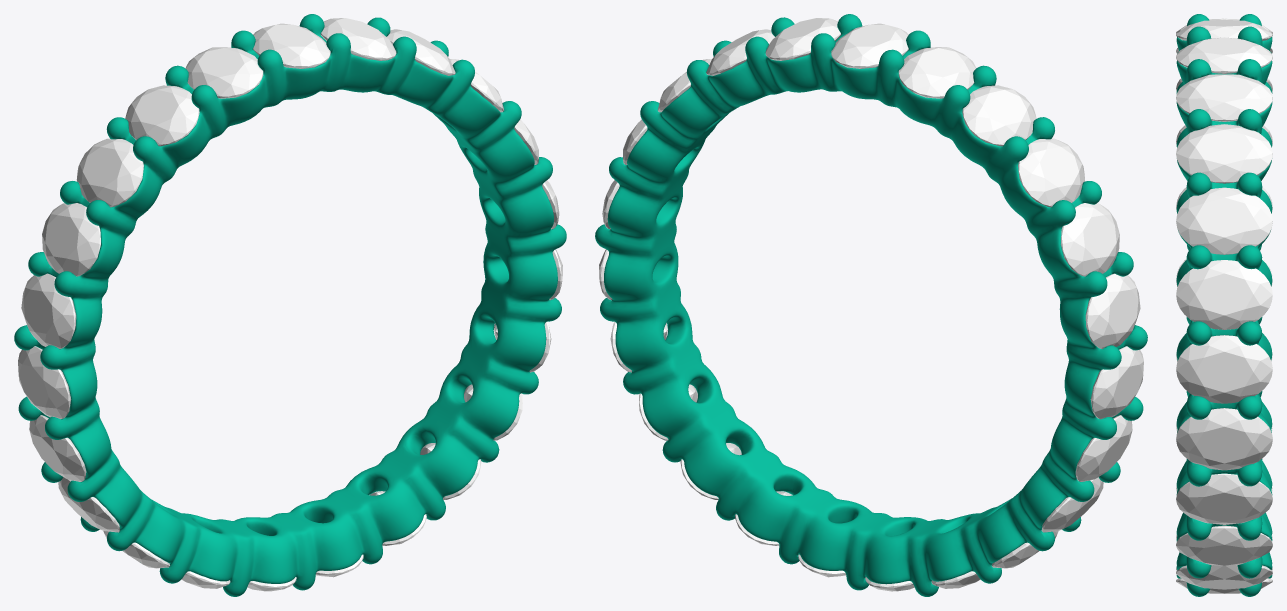
Rendered from BE2DOV200E_RENDER.glb.
The picture shows the model from 3 angles, left to right: view 1: azimuth 30°, elevation 25°; view 2: azimuth 150°, elevation 25°; view 3: azimuth 270°, elevation 25°; orthographic projection. The views are drawn at different scales.
Parts seen in each view (by area): view 1: Metal03, Diamond_Oval_Gem_BD.003, Diamond_Oval_Gem_BD.004, Diamond_Oval_Gem_BD.002, Diamond_Oval_Gem_BD.005, Diamond_Oval_Gem_BD.001, Diamond_Oval_Gem_BD.006, Diamond_Oval_Gem_BD, Diamond_Oval_Gem_BD.007, Diamond_Oval_Gem_BD.022, Diamond_Oval_Gem_BD.008, Diamond_Oval_Gem_BD.021; view 2: Metal03, Diamond_Oval_Gem_BD.003, Diamond_Oval_Gem_BD.004, Diamond_Oval_Gem_BD.002, Diamond_Oval_Gem_BD.005, Diamond_Oval_Gem_BD.001, Diamond_Oval_Gem_BD.006, Diamond_Oval_Gem_BD, Diamond_Oval_Gem_BD.007, Diamond_Oval_Gem_BD.022, Diamond_Oval_Gem_BD.008, Diamond_Oval_Gem_BD.021; view 3: Metal03, Diamond_Oval_Gem_BD.019, Diamond_Oval_Gem_BD.018, Diamond_Oval_Gem_BD.020, Diamond_Oval_Gem_BD.017, Diamond_Oval_Gem_BD.021, Diamond_Oval_Gem_BD.016, Diamond_Oval_Gem_BD.022, Diamond_Oval_Gem_BD.015, Diamond_Oval_Gem_BD, Diamond_Oval_Gem_BD.014, Diamond_Oval_Gem_BD.001 (+1 smaller).
Part boxes in pixels (<box>): Metal03: <box>14,14,566,596</box>; Diamond_Oval_Gem_BD.003: <box>76,138,143,207</box>; Diamond_Oval_Gem_BD.004: <box>42,203,100,276</box>; Diamond_Oval_Gem_BD.002: <box>125,85,199,146</box>; Diamond_Oval_Gem_BD.005: <box>21,273,76,348</box>; Diamond_Oval_Gem_BD.001: <box>185,47,263,98</box>; Diamond_Oval_Gem_BD.006: <box>18,346,71,418</box>; Diamond_Oval_Gem_BD: <box>253,23,330,68</box>; Diamond_Oval_Gem_BD.007: <box>29,415,86,481</box>; Diamond_Oval_Gem_BD.022: <box>320,18,396,60</box>; Diamond_Oval_Gem_BD.008: <box>58,477,119,532</box>; Diamond_Oval_Gem_BD.021: <box>387,29,455,75</box>; Metal03: <box>595,14,1147,596</box>; Diamond_Oval_Gem_BD.003: <box>1018,138,1084,207</box>; Diamond_Oval_Gem_BD.004: <box>1061,203,1119,276</box>; Diamond_Oval_Gem_BD.002: <box>962,85,1036,146</box>; Diamond_Oval_Gem_BD.005: <box>1085,273,1140,348</box>; Diamond_Oval_Gem_BD.001: <box>898,47,976,98</box>; Diamond_Oval_Gem_BD.006: <box>1090,346,1143,419</box>; Diamond_Oval_Gem_BD: <box>831,23,908,68</box>; Diamond_Oval_Gem_BD.007: <box>1075,415,1132,481</box>; Diamond_Oval_Gem_BD.022: <box>765,18,841,60</box>; Diamond_Oval_Gem_BD.008: <box>1041,477,1103,532</box>; Diamond_Oval_Gem_BD.021: <box>706,29,774,75</box>; Metal03: <box>1176,14,1272,596</box>; Diamond_Oval_Gem_BD.019: <box>1176,260,1272,329</box>; Diamond_Oval_Gem_BD.018: <box>1176,335,1272,403</box>; Diamond_Oval_Gem_BD.020: <box>1176,187,1272,254</box>; Diamond_Oval_Gem_BD.017: <box>1176,408,1272,470</box>; Diamond_Oval_Gem_BD.021: <box>1176,124,1272,183</box>; Diamond_Oval_Gem_BD.016: <box>1176,473,1272,524</box>; Diamond_Oval_Gem_BD.022: <box>1176,74,1272,121</box>; Diamond_Oval_Gem_BD.015: <box>1176,525,1272,565</box>; Diamond_Oval_Gem_BD: <box>1176,37,1272,73</box>; Diamond_Oval_Gem_BD.014: <box>1176,565,1272,589</box>; Diamond_Oval_Gem_BD.001: <box>1176,19,1272,40</box>.
Bounding box in the file's own units: 20.82 × 20.78 × 3.45.
